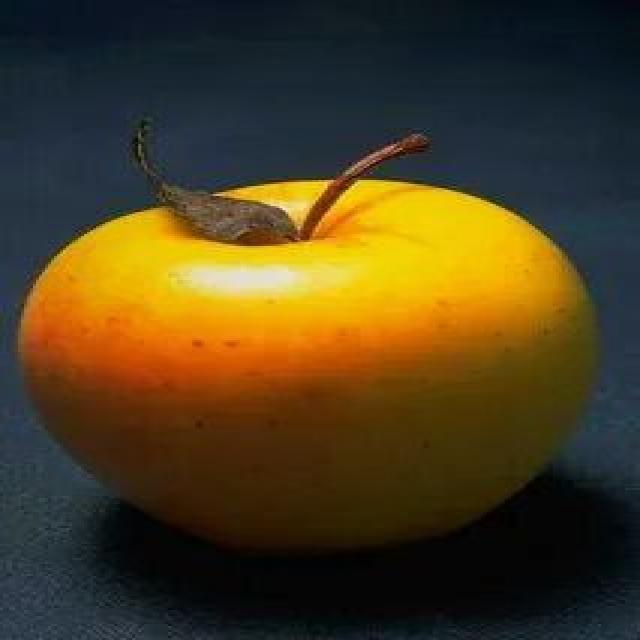Fresh Apple: (20, 175, 613, 545)
